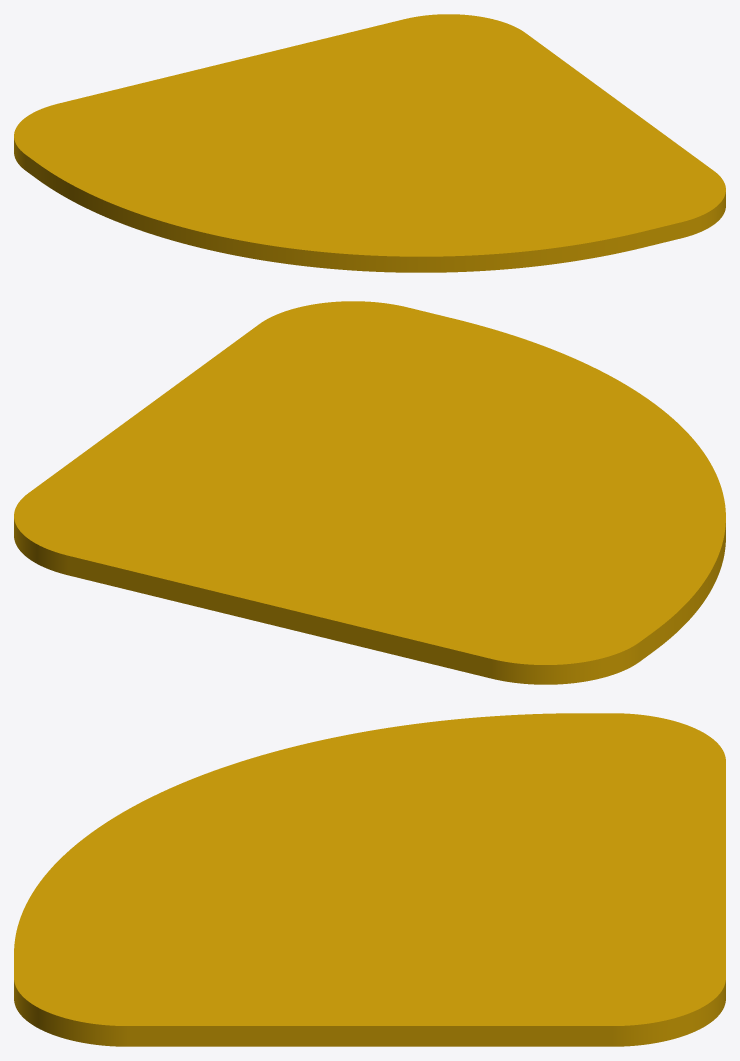
The model's file is luxury_plank_medium.glb.
The picture shows the model from 3 angles, top to bottom: view 1: azimuth 30°, elevation 25°; view 2: azimuth 150°, elevation 25°; view 3: azimuth 270°, elevation 25°; orthographic projection. The views are drawn at different scales.
Size of the model in its own units: 0.13 by 0.004 by 0.125.
